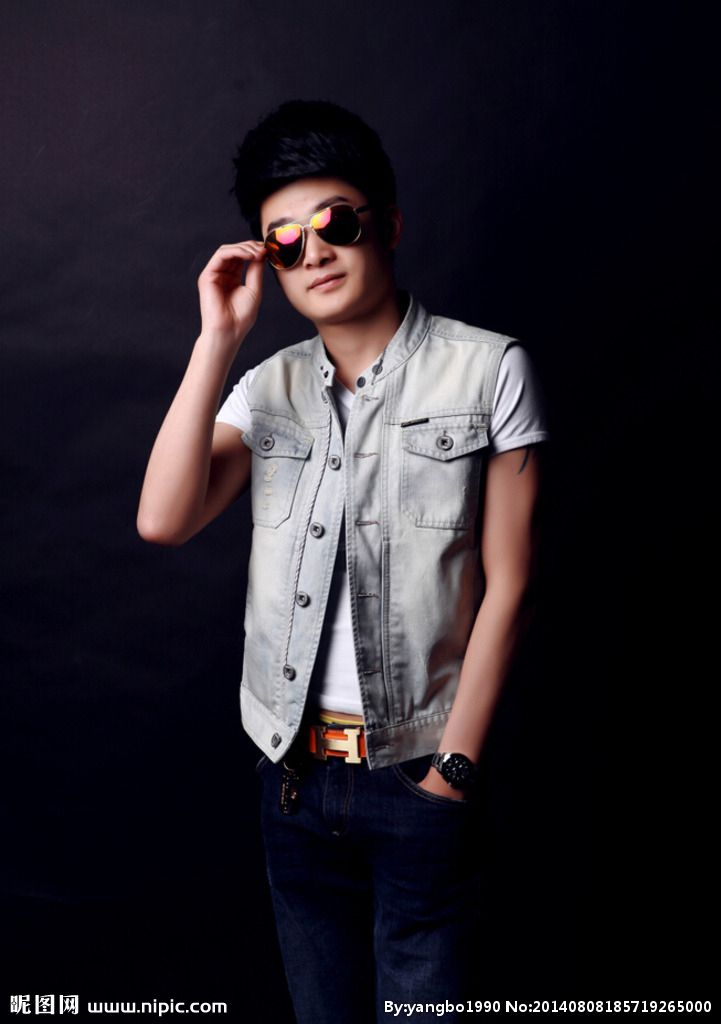person: (179, 136, 537, 826)
